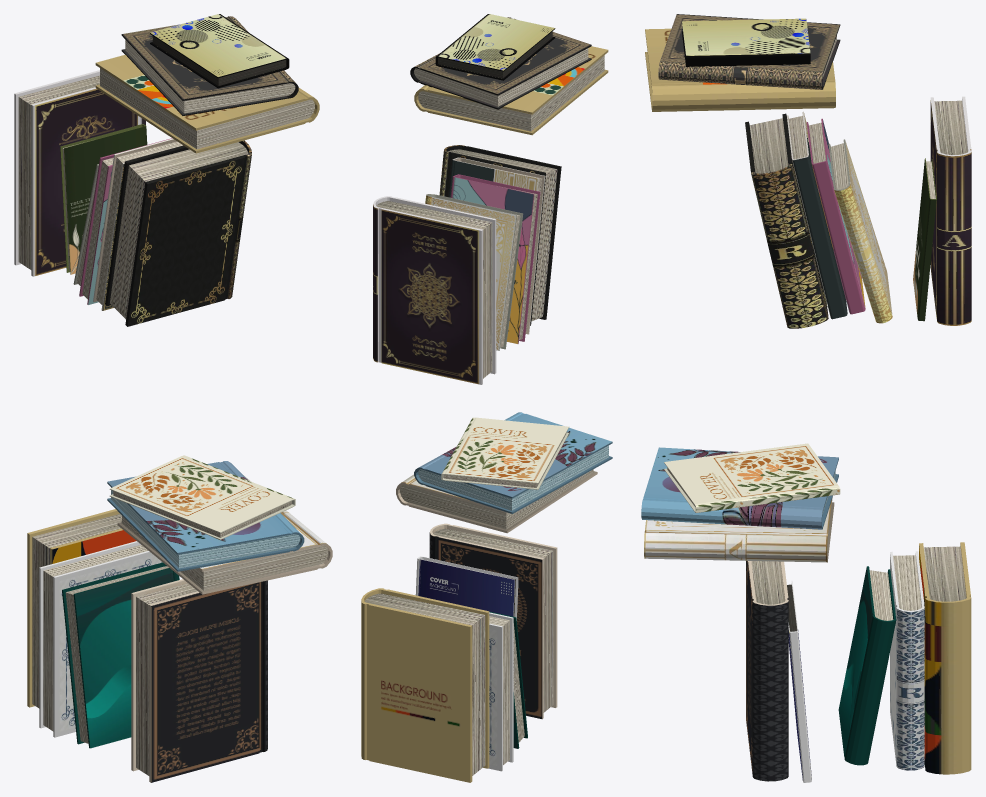
Rendered from books-BEFEeko9.glb.
The picture shows the model from 3 angles, left to right: view 1: azimuth 30°, elevation 25°; view 2: azimuth 150°, elevation 25°; view 3: azimuth 270°, elevation 25°; orthographic projection. The views are drawn at different scales.
Parts seen in each view (by area): view 1: StudyShelf_2064, StudyShelf_2081, StudyShelf_2063, StudyShelf_2096, StudyShelf_2093, StudyShelf_2072, StudyShelf_2084, StudyShelf_2087, StudyShelf_2099, StudyShelf_2102, StudyShelf_2108, StudyShelf_2066 (+6 smaller); view 2: StudyShelf_2064, StudyShelf_2111, StudyShelf_2093, StudyShelf_2081, StudyShelf_2072, StudyShelf_2078, StudyShelf_2087, StudyShelf_2105, StudyShelf_2066, StudyShelf_2108, StudyShelf_2090, StudyShelf_2102 (+7 smaller); view 3: StudyShelf_2064, StudyShelf_2111, StudyShelf_2072, StudyShelf_2081, StudyShelf_2063, StudyShelf_2093, StudyShelf_2069, StudyShelf_2096, StudyShelf_2108, StudyShelf_2102, StudyShelf_2087, StudyShelf_2084 (+6 smaller).
Part boxes in pixels (bbox=[...]): StudyShelf_2064: bbox=[18, 40, 328, 775]; StudyShelf_2081: bbox=[131, 579, 267, 782]; StudyShelf_2063: bbox=[105, 140, 251, 326]; StudyShelf_2096: bbox=[62, 562, 179, 748]; StudyShelf_2093: bbox=[14, 70, 145, 276]; StudyShelf_2072: bbox=[109, 455, 295, 539]; StudyShelf_2084: bbox=[39, 541, 162, 737]; StudyShelf_2087: bbox=[150, 14, 289, 88]; StudyShelf_2099: bbox=[60, 124, 147, 274]; StudyShelf_2102: bbox=[95, 54, 319, 153]; StudyShelf_2108: bbox=[107, 461, 304, 571]; StudyShelf_2066: bbox=[121, 16, 298, 115]; StudyShelf_2064: bbox=[364, 48, 604, 775]; StudyShelf_2111: bbox=[361, 588, 489, 782]; StudyShelf_2093: bbox=[373, 196, 496, 384]; StudyShelf_2081: bbox=[429, 523, 557, 719]; StudyShelf_2072: bbox=[441, 417, 569, 489]; StudyShelf_2078: bbox=[415, 556, 518, 620]; StudyShelf_2087: bbox=[435, 14, 555, 80]; StudyShelf_2105: bbox=[450, 174, 540, 343]; StudyShelf_2066: bbox=[410, 17, 591, 109]; StudyShelf_2108: bbox=[414, 412, 612, 513]; StudyShelf_2090: bbox=[425, 194, 523, 350]; StudyShelf_2102: bbox=[414, 46, 608, 135]; StudyShelf_2064: bbox=[667, 35, 967, 620]; StudyShelf_2111: bbox=[919, 542, 971, 774]; StudyShelf_2072: bbox=[664, 443, 840, 512]; StudyShelf_2081: bbox=[746, 561, 788, 781]; StudyShelf_2063: bbox=[745, 113, 828, 328]; StudyShelf_2093: bbox=[930, 96, 971, 325]; StudyShelf_2069: bbox=[644, 497, 834, 562]; StudyShelf_2096: bbox=[838, 566, 896, 765]; StudyShelf_2108: bbox=[641, 447, 838, 529]; StudyShelf_2102: bbox=[645, 28, 835, 111]; StudyShelf_2087: bbox=[682, 18, 810, 66]; StudyShelf_2084: bbox=[890, 551, 924, 770].
Bounding box in the file's own units: 42.72 × 179 × 74.77.
20 materials, 20 textured.
